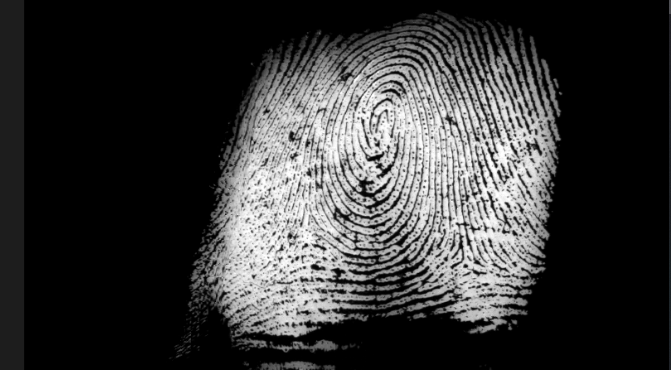nucelo: (367, 88, 400, 148)
verticilo: (294, 204, 324, 233), (453, 252, 483, 274)
